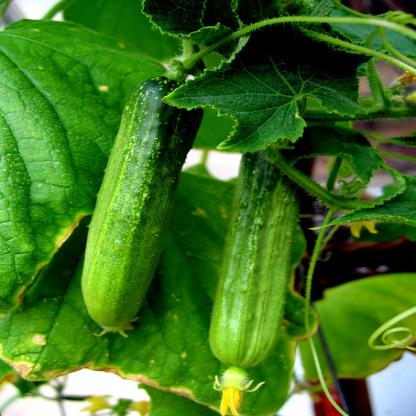--: (202, 108, 310, 385), (77, 68, 179, 347)
